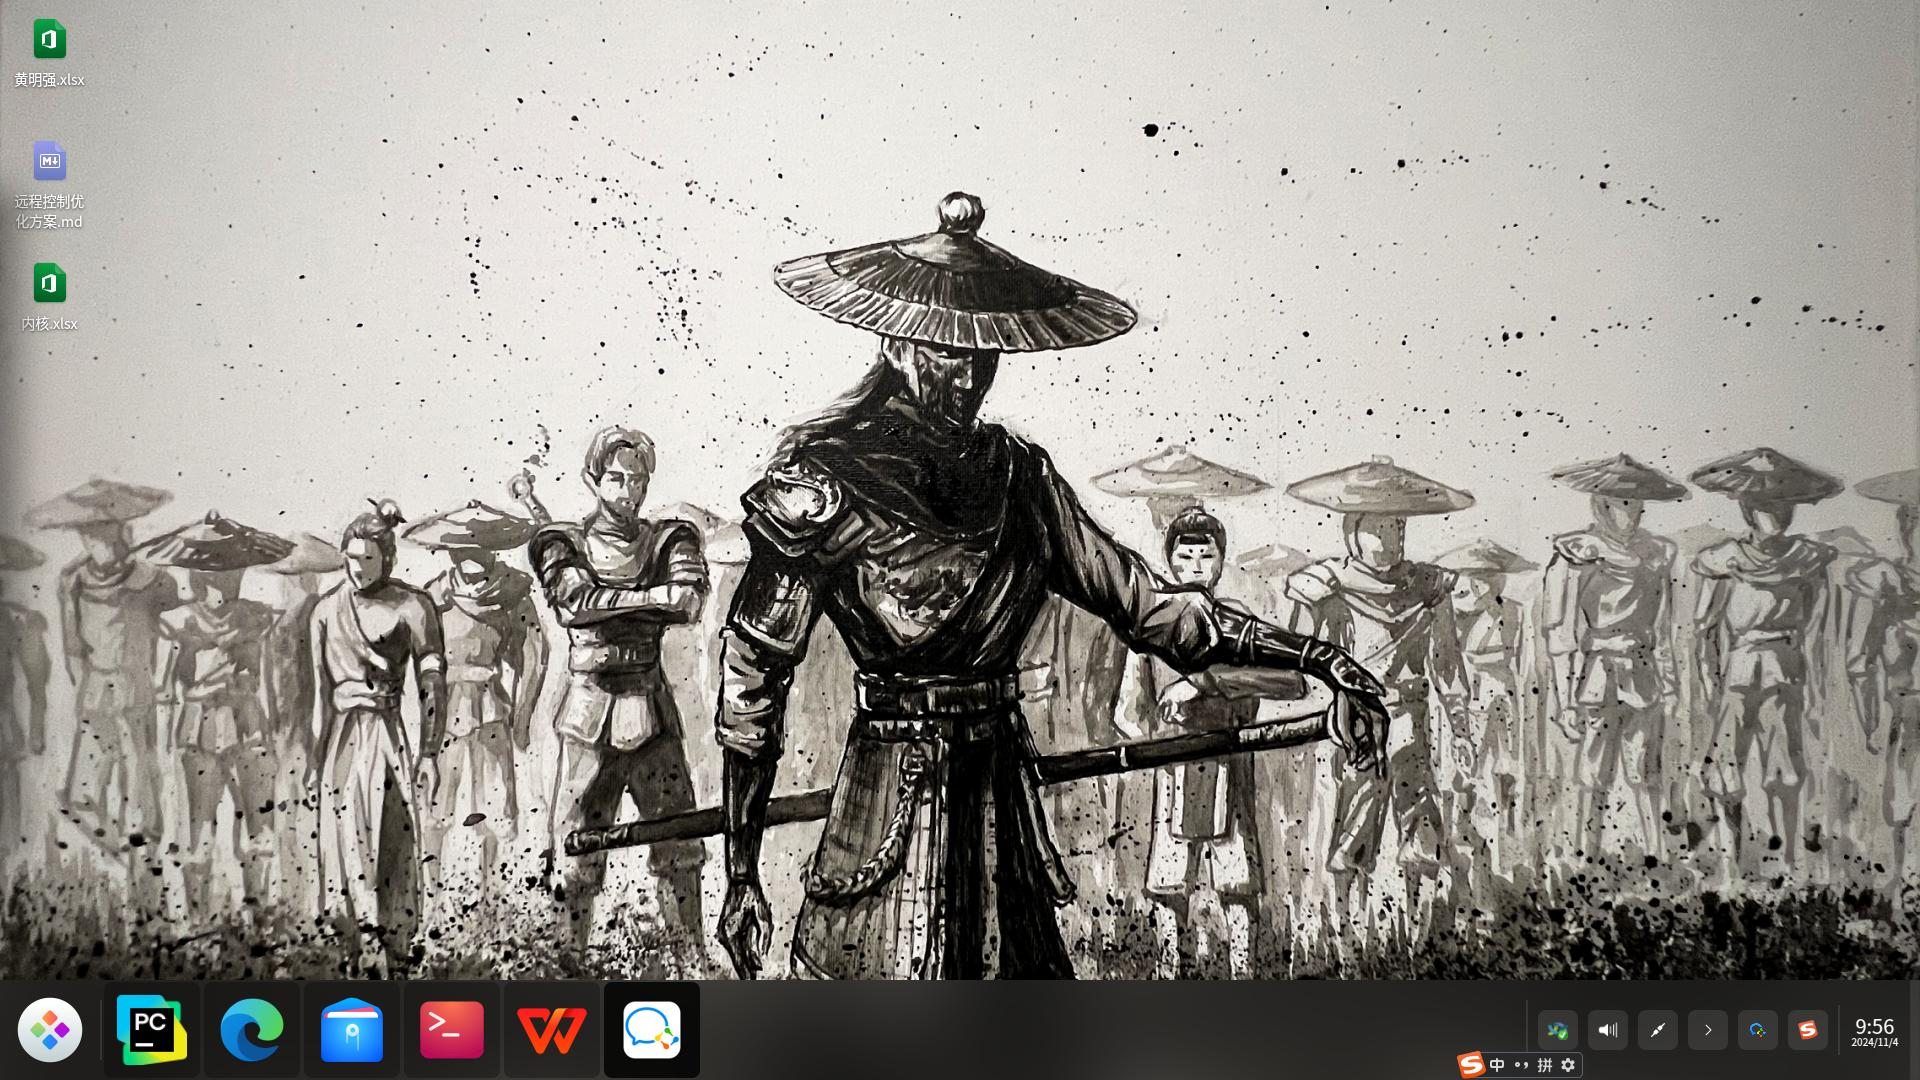dde_file_manager_icon: (318, 996, 386, 1065)
dde_launcher_icon: (15, 996, 84, 1064)
